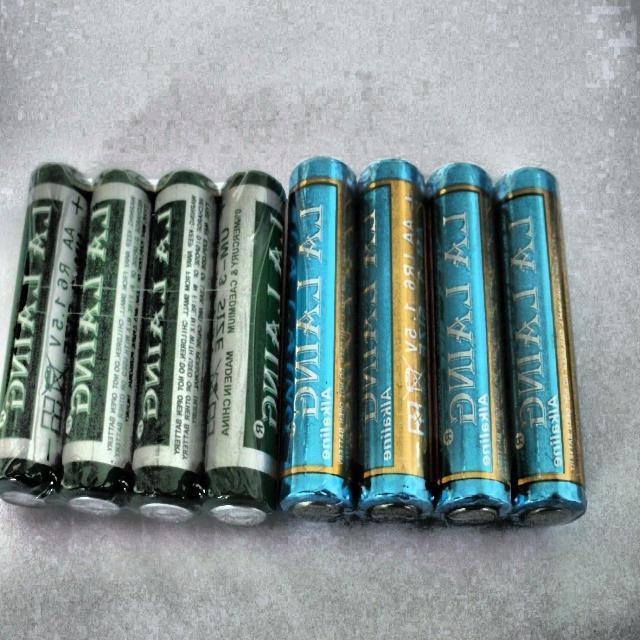battery: (495, 168, 586, 526), (61, 168, 154, 514), (0, 165, 92, 507), (132, 170, 220, 520), (427, 165, 511, 524), (204, 172, 285, 526), (279, 159, 357, 522), (357, 159, 433, 522)
